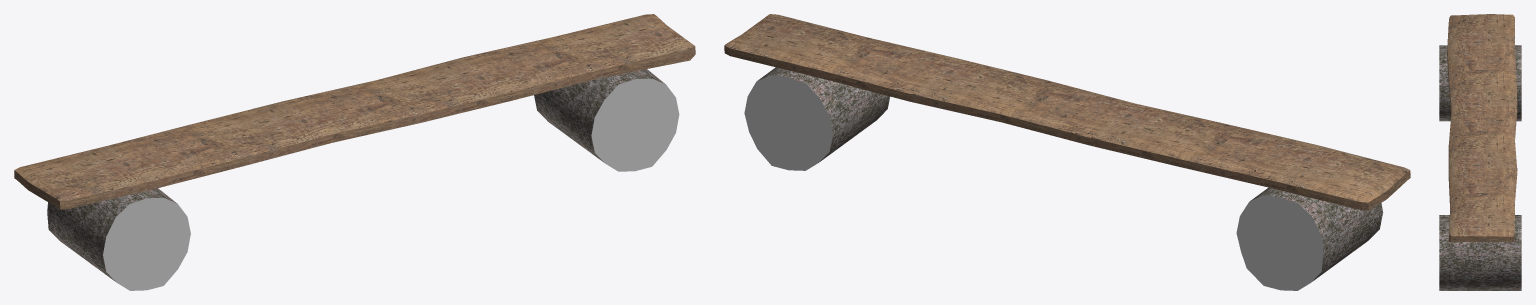
Rendered from bench_long_fbx.FBX.
The picture shows the model from 3 angles, left to right: view 1: azimuth 30°, elevation 25°; view 2: azimuth 150°, elevation 25°; view 3: azimuth 270°, elevation 25°; orthographic projection. The views are drawn at different scales.
Visible parts, largest first — view 1: bench_long; view 2: bench_long; view 3: bench_long.
Part boxes in pixels (x1,y1,x2,y2): bench_long: (14, 14, 695, 290); bench_long: (724, 14, 1410, 290); bench_long: (1439, 14, 1521, 290).
Size of the model in its own units: 287 by 44.72 by 45.15.
